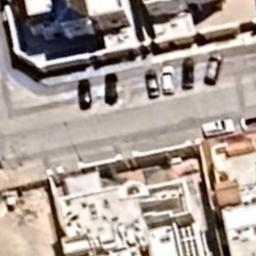SUV: (200, 116, 236, 138), (162, 64, 176, 96)
sedan: (144, 69, 160, 100), (181, 58, 196, 90), (78, 78, 92, 110)
unknown: (104, 72, 118, 106)
van: (204, 52, 222, 87)
